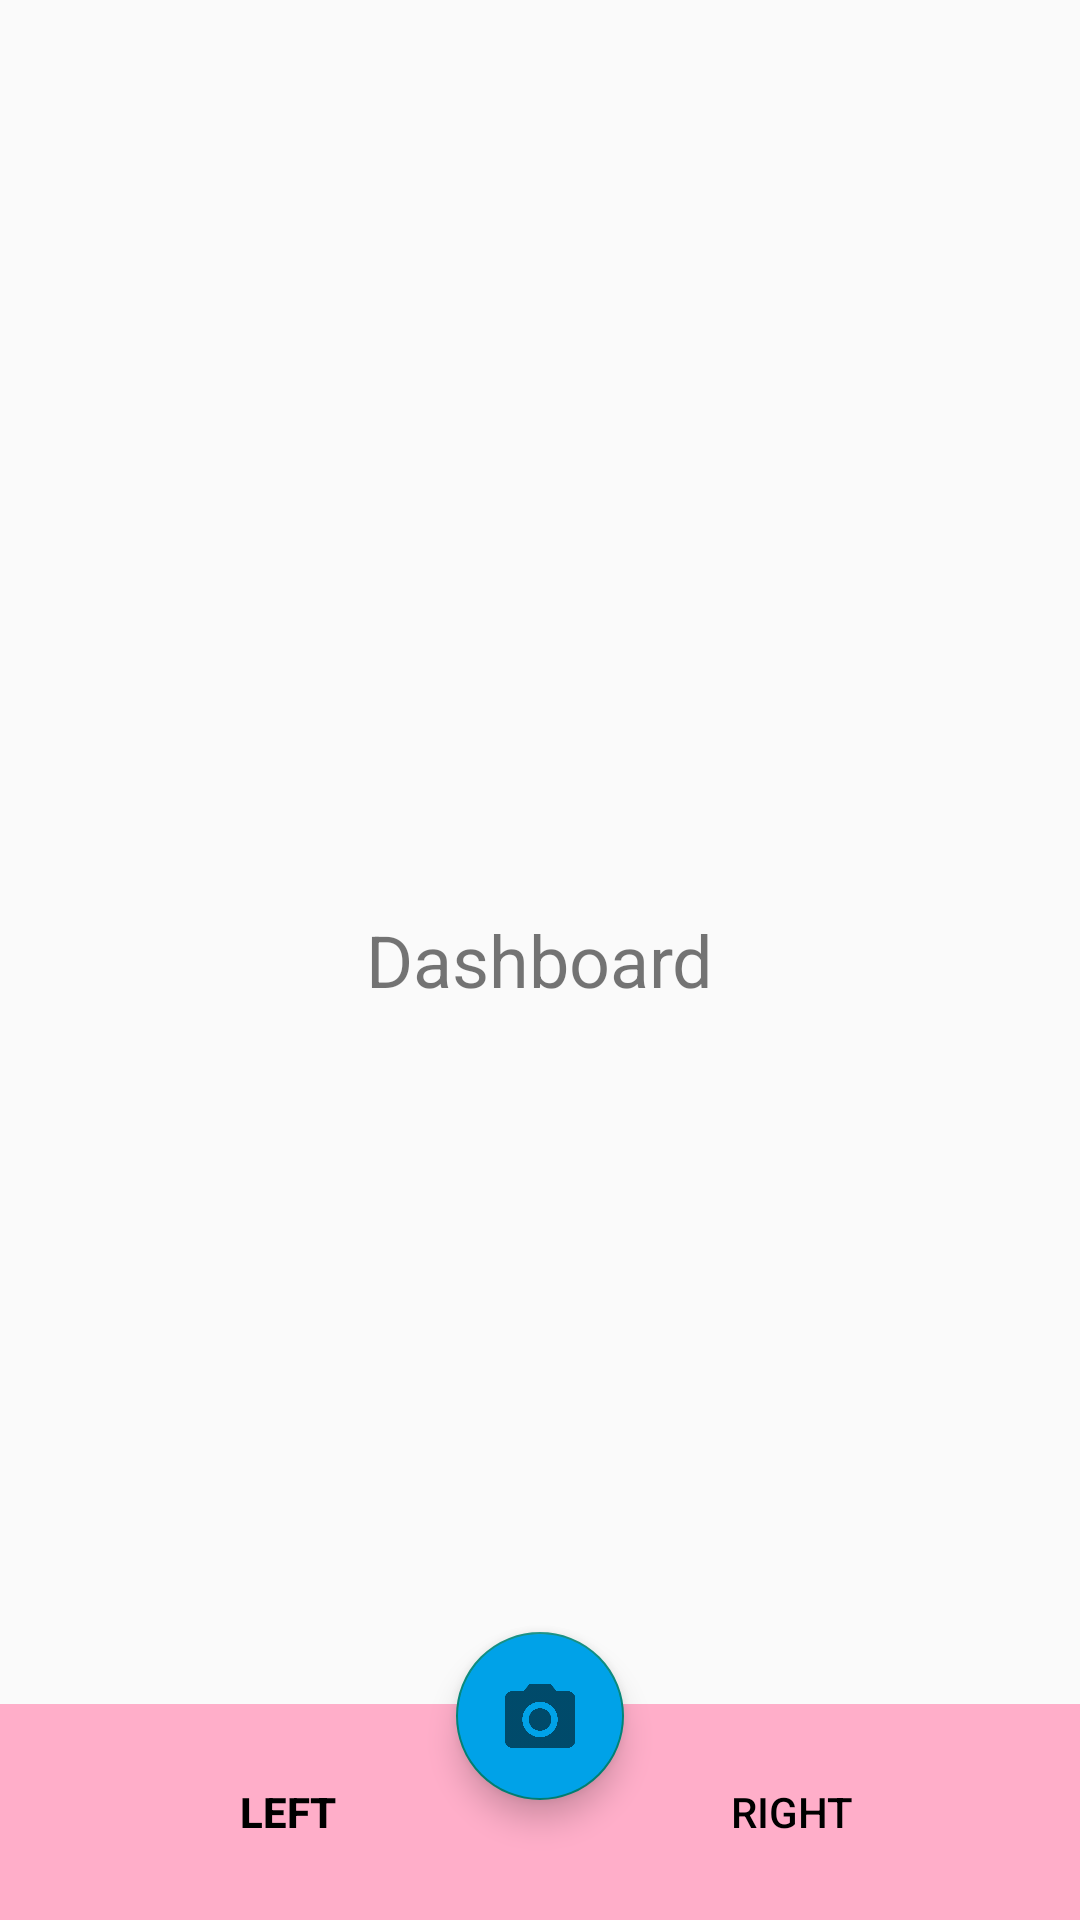

Icons on this 1080px x 1920px Android screen, each with the point to tap as point (x, y):
camera: point (540, 1716)
